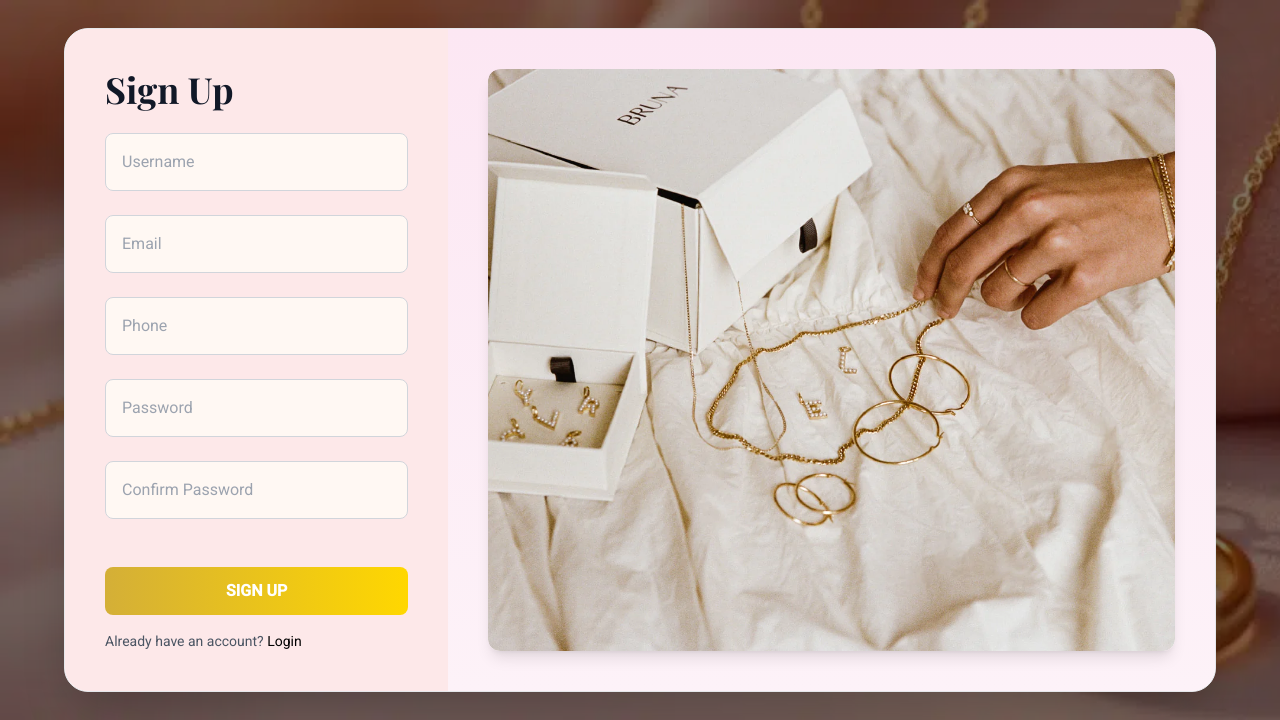
Register Component › displays error when passwords do not match
Type "JohnDoe" into the field with placeholder "Username" at (257, 162), box [105, 133, 408, 191]
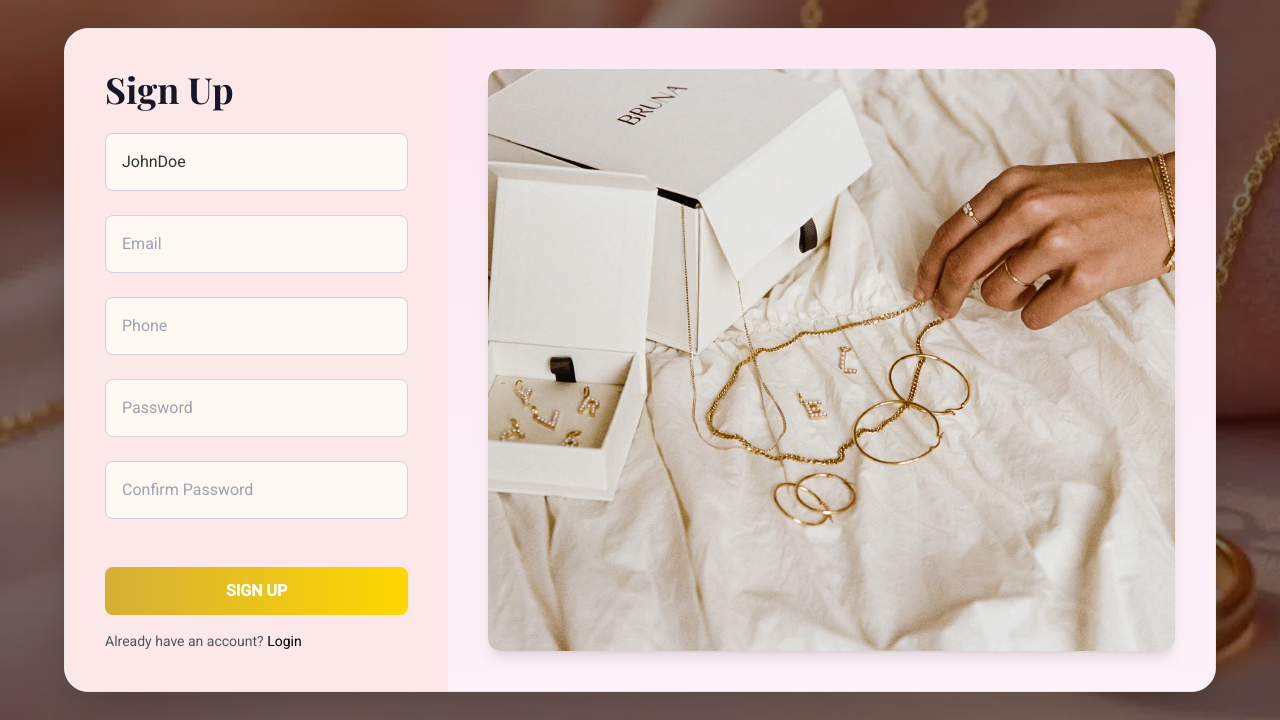
Type "johndoe@example.com" into the field with placeholder "Email" at (257, 244), box [105, 215, 408, 273]
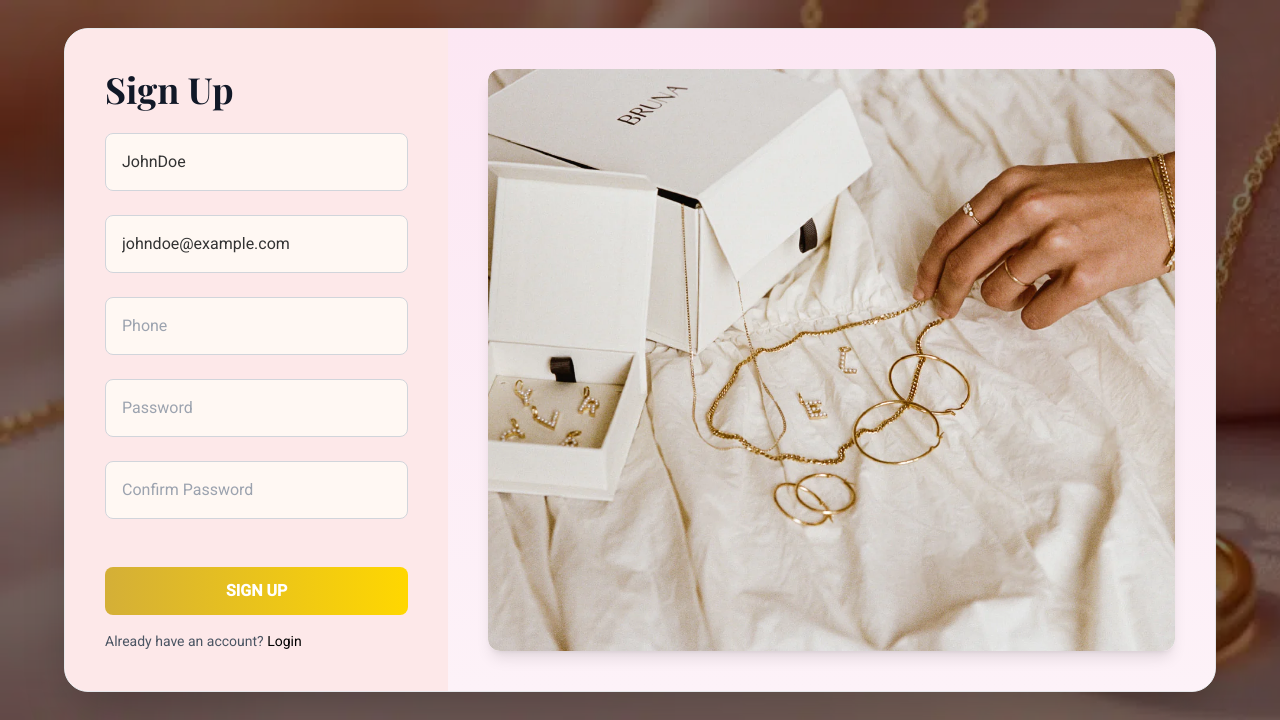
Type "1234567890" into the field with placeholder "Phone" at (257, 326), box [105, 297, 408, 355]
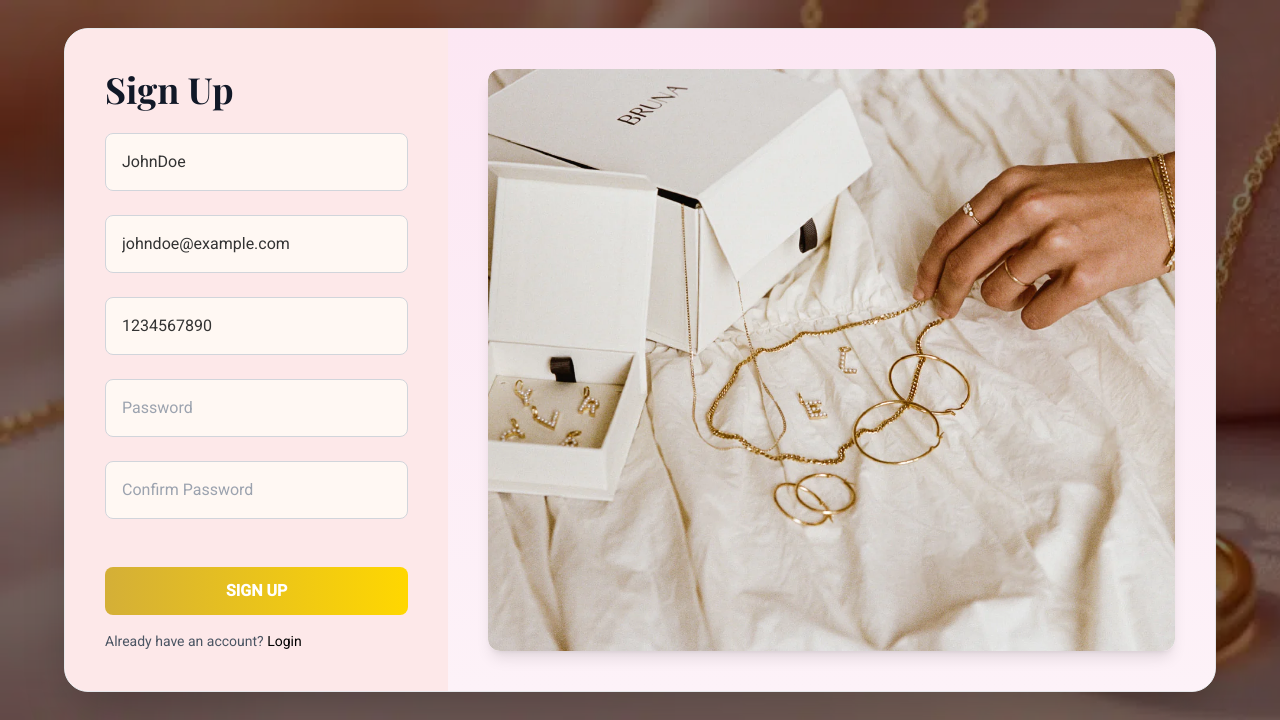
Type "differentPassword" into the password field with placeholder "Confirm Password" at (257, 490), box [105, 461, 408, 519]
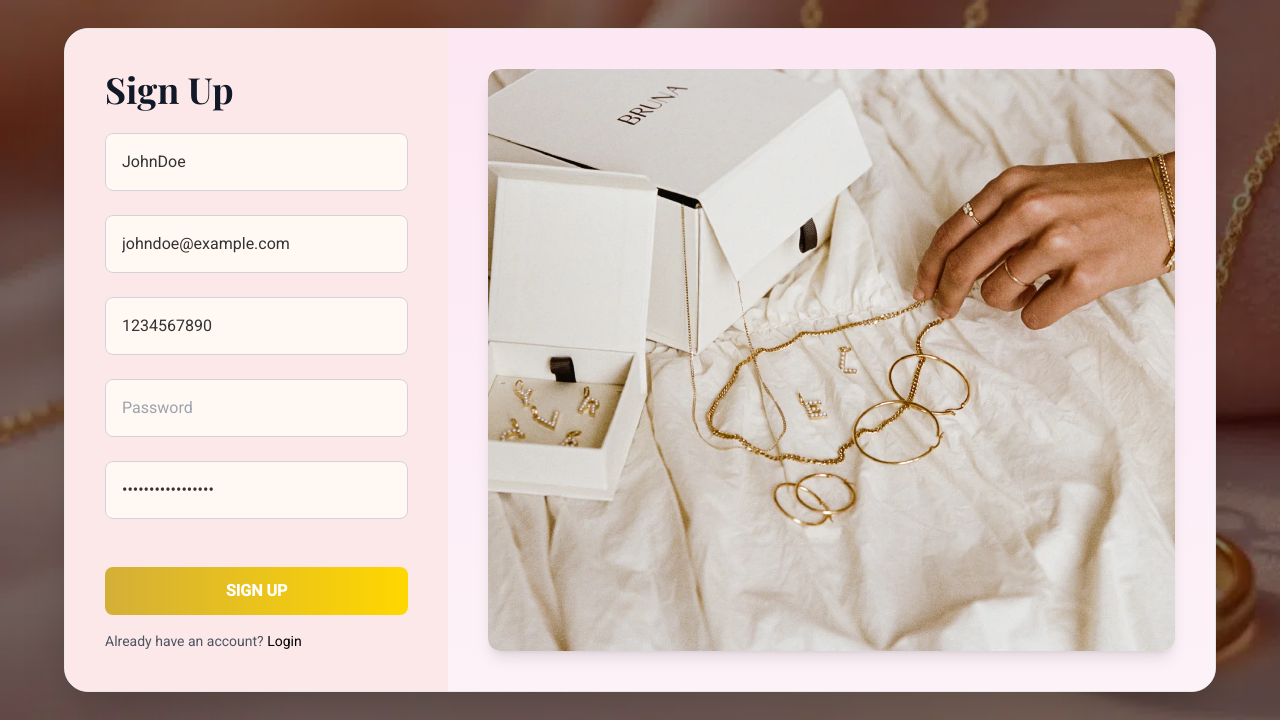
Click the button "Sign Up" at (257, 591), box [105, 567, 408, 615]
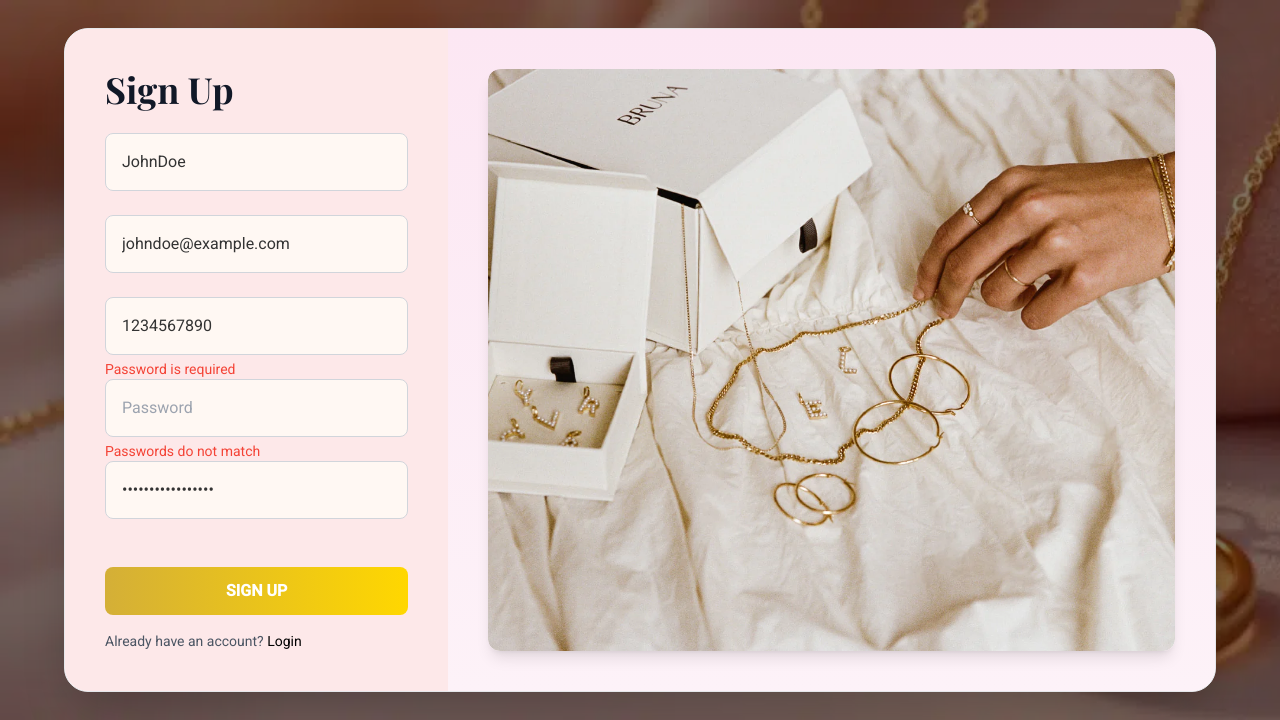
Result: the text "Passwords do not match" is shown at [105, 441, 260, 462]
